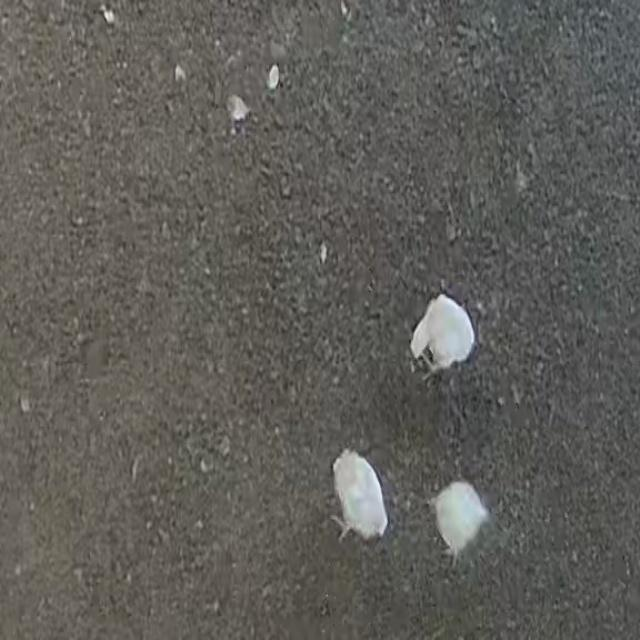chicken: (409, 295, 475, 376), (333, 452, 384, 543), (429, 481, 487, 560)
